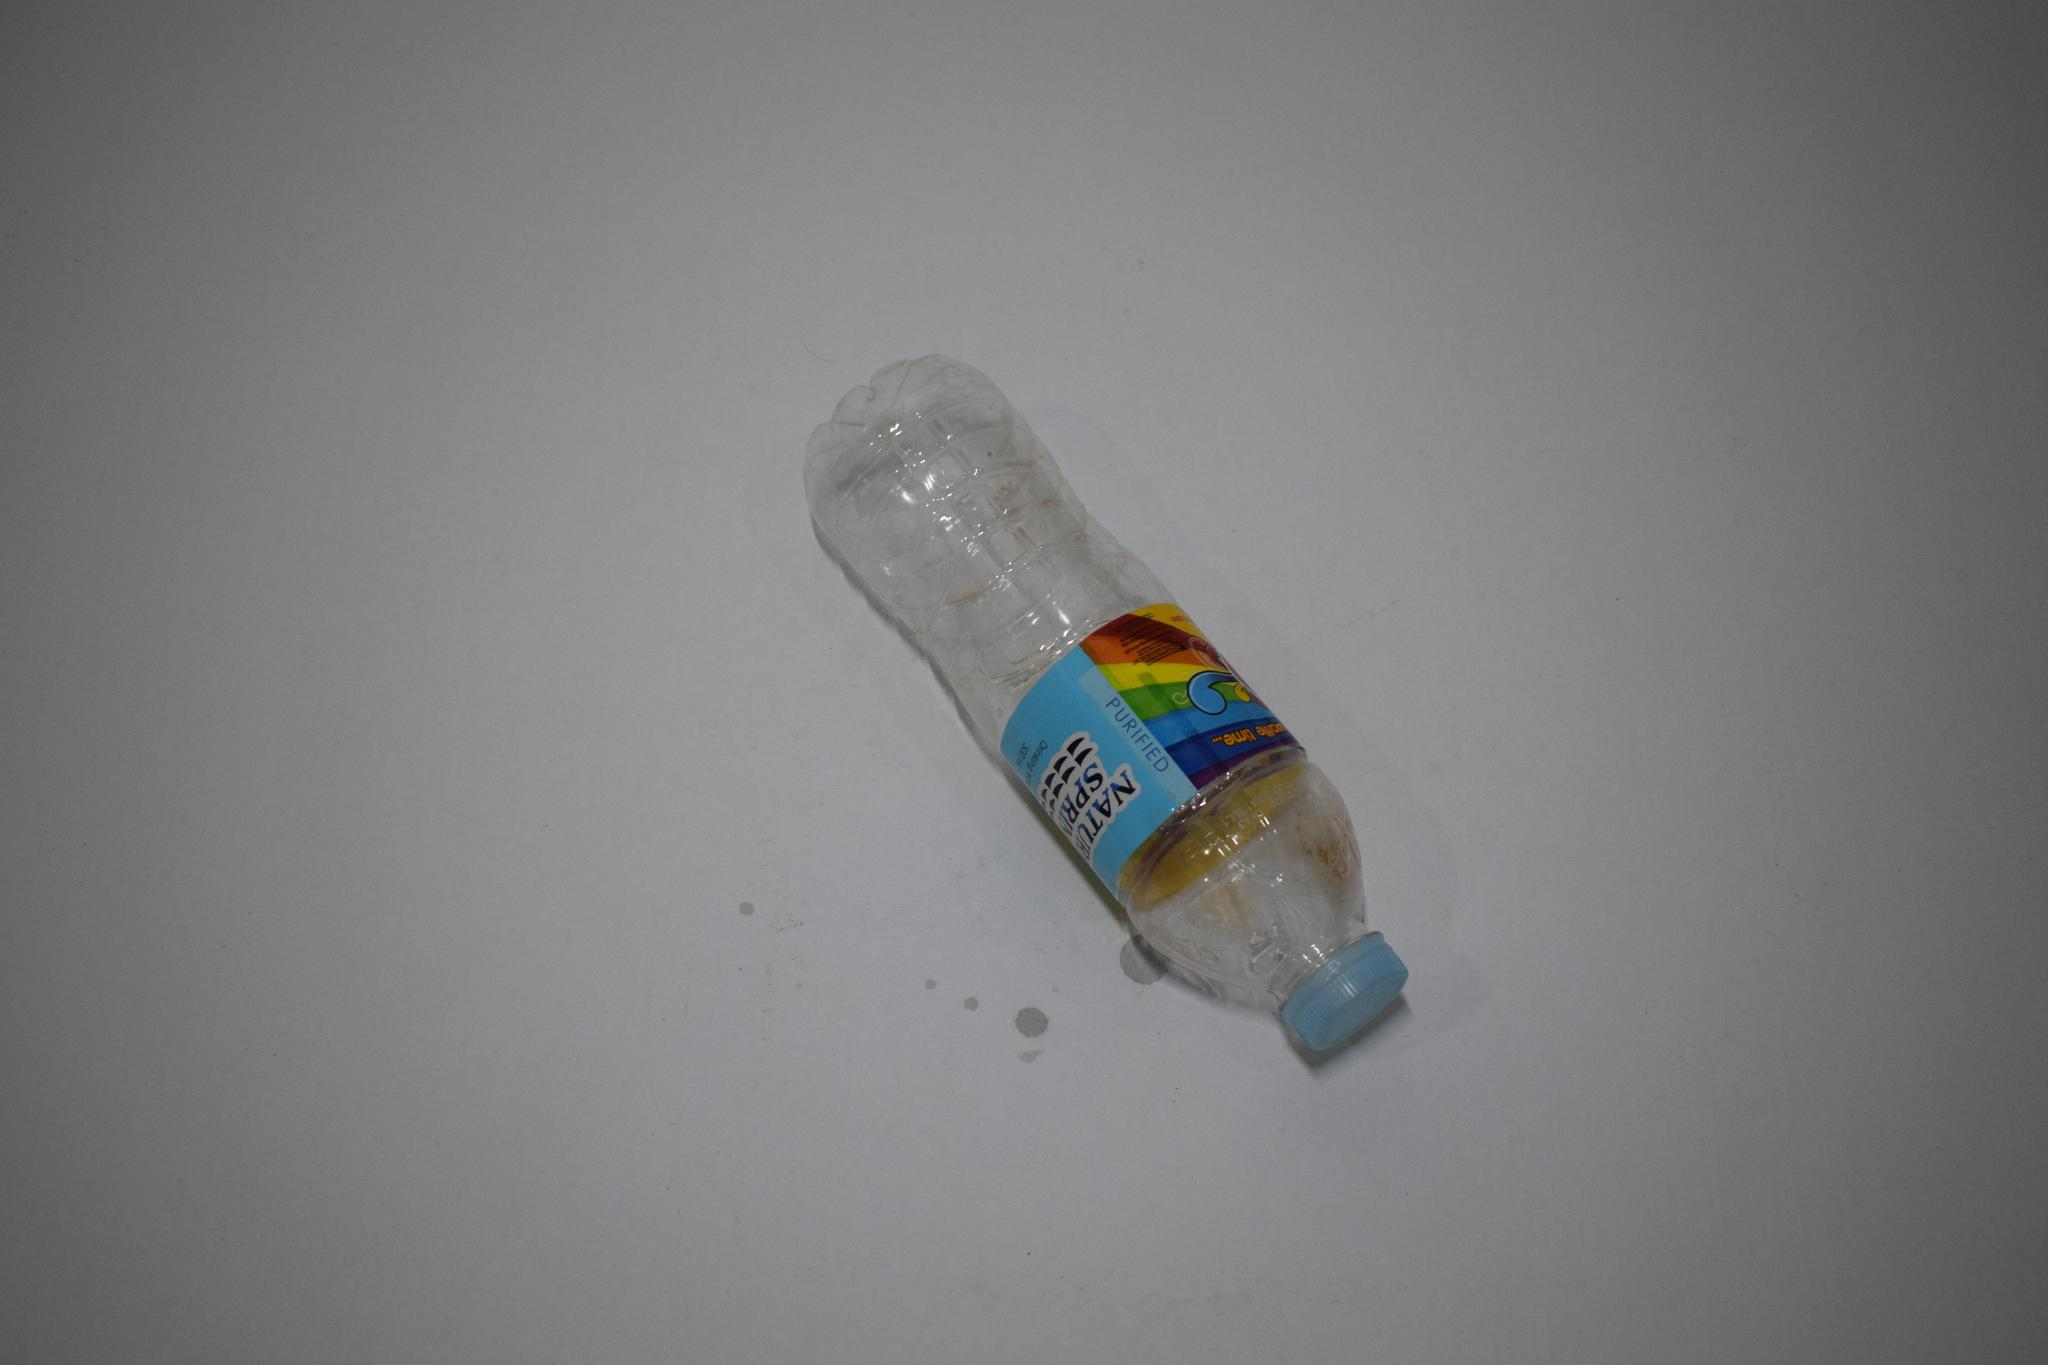bottle: (789, 331, 1498, 1077)
